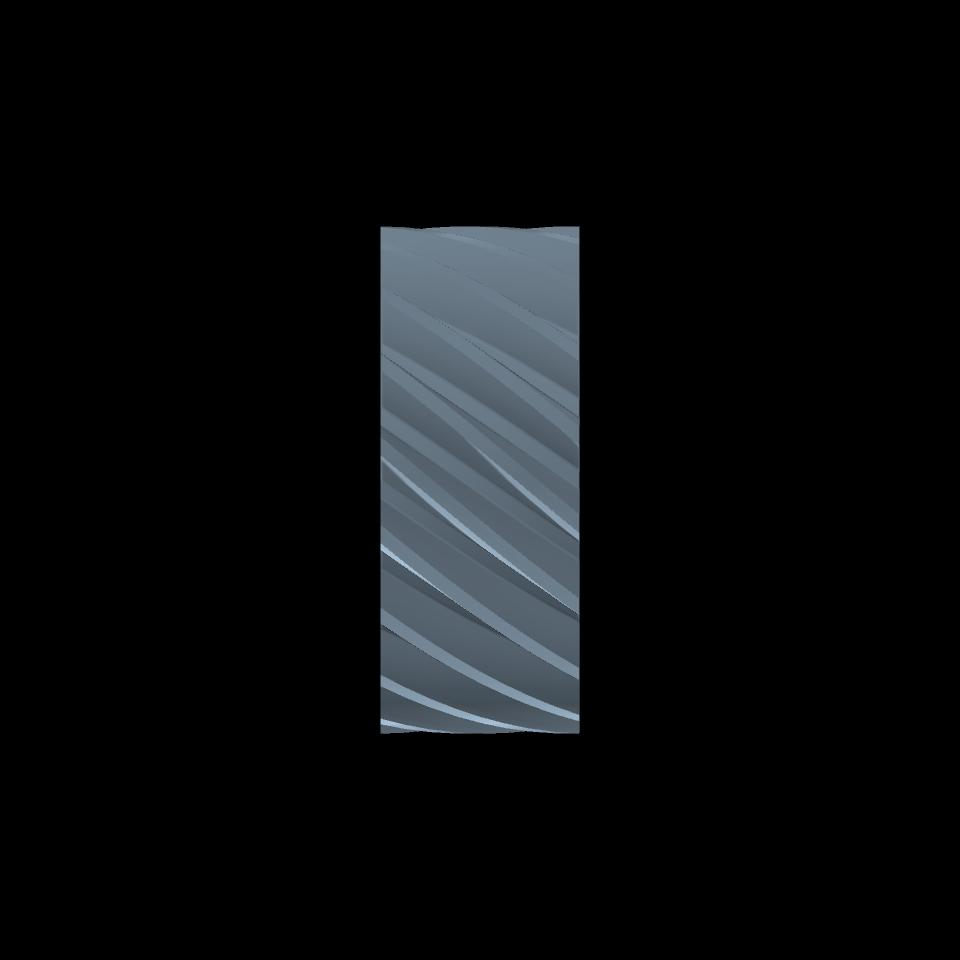Helical: (381, 227, 580, 729)
